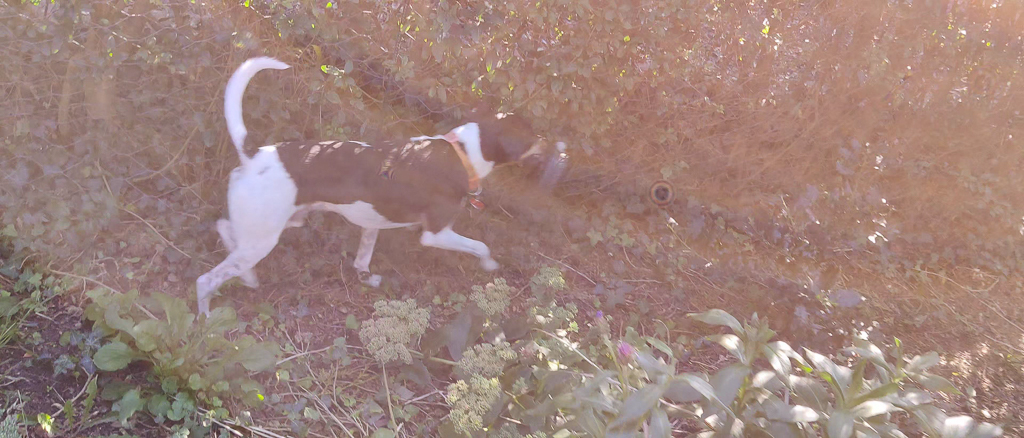Dog: (176, 50, 567, 330)
